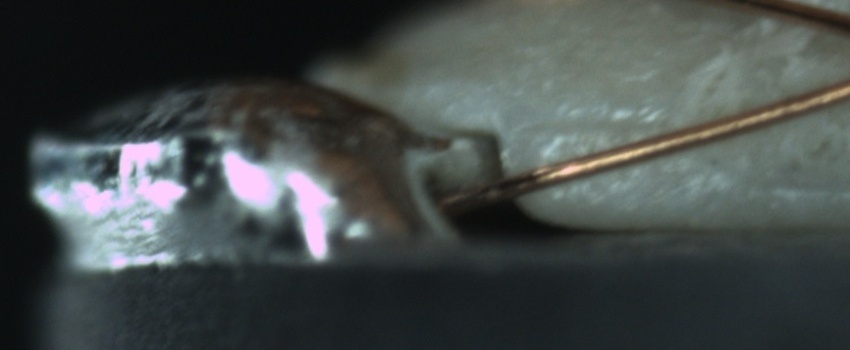DL: (532, 95, 681, 154)
